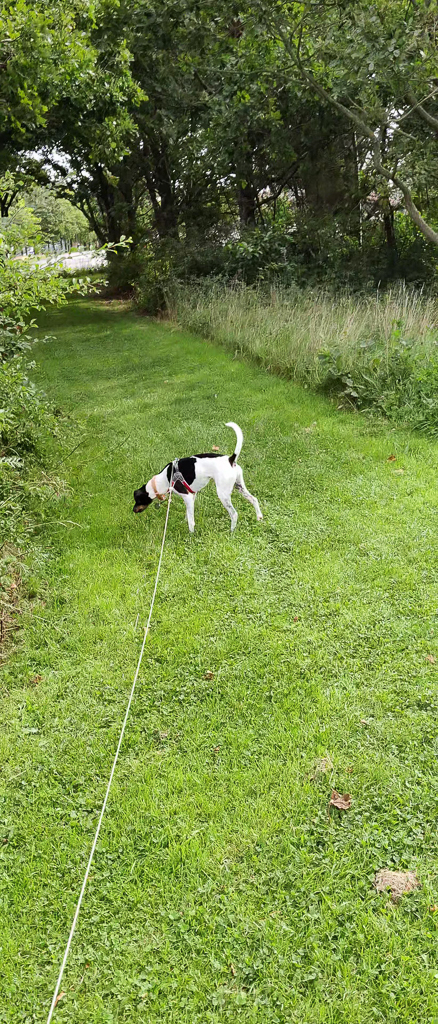Dog: (127, 408, 271, 543)
